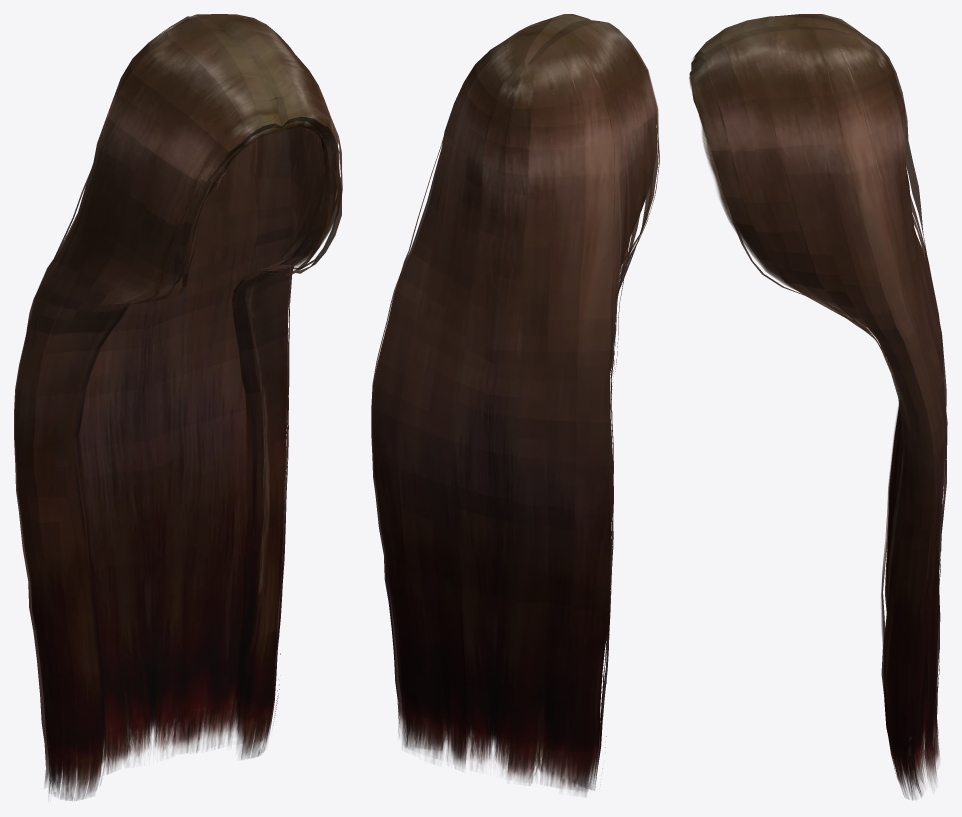
Rendered from long01.glb.
The picture shows the model from 3 angles, left to right: view 1: azimuth 30°, elevation 25°; view 2: azimuth 150°, elevation 25°; view 3: azimuth 270°, elevation 25°; orthographic projection. The views are drawn at different scales.
Visible parts, largest first — view 1: MakeHuman_long01; view 2: MakeHuman_long01; view 3: MakeHuman_long01.
Boxes of the visible parts, left/top/right/bottom form: MakeHuman_long01: left=14, top=14, right=342, bottom=800; MakeHuman_long01: left=371, top=14, right=659, bottom=796; MakeHuman_long01: left=689, top=14, right=947, bottom=799.
Bounding box in the file's own units: 0.2594 × 0.726 × 0.2303.
1 material, 1 textured.
